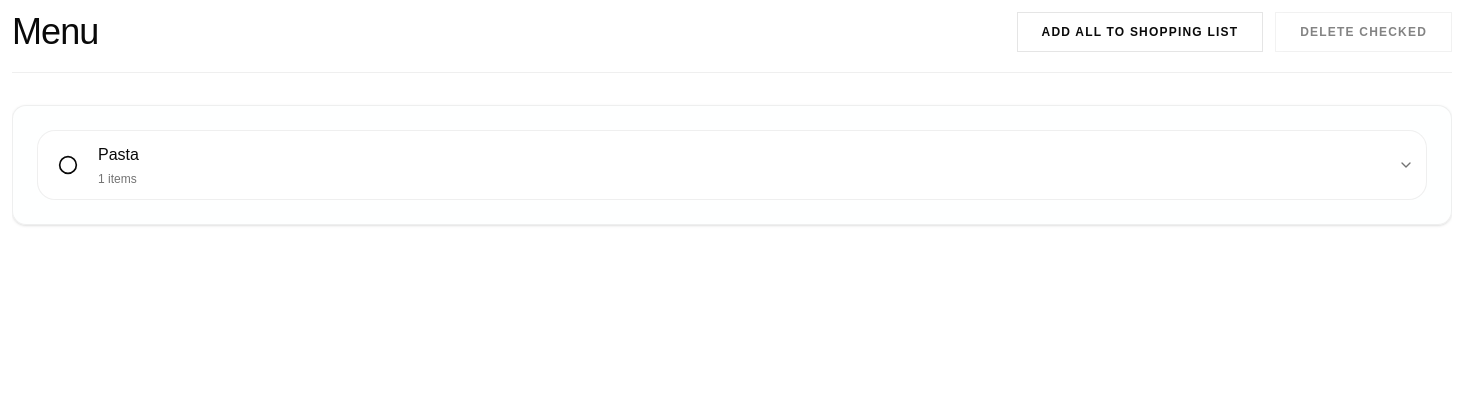
MenuPage › expands and collapses menu rows when the recipe is clicked
expect the button "Add recipe to shopping list" is not shown: met
Click the text "Pasta": x=118, y=154 [98,146,139,163]
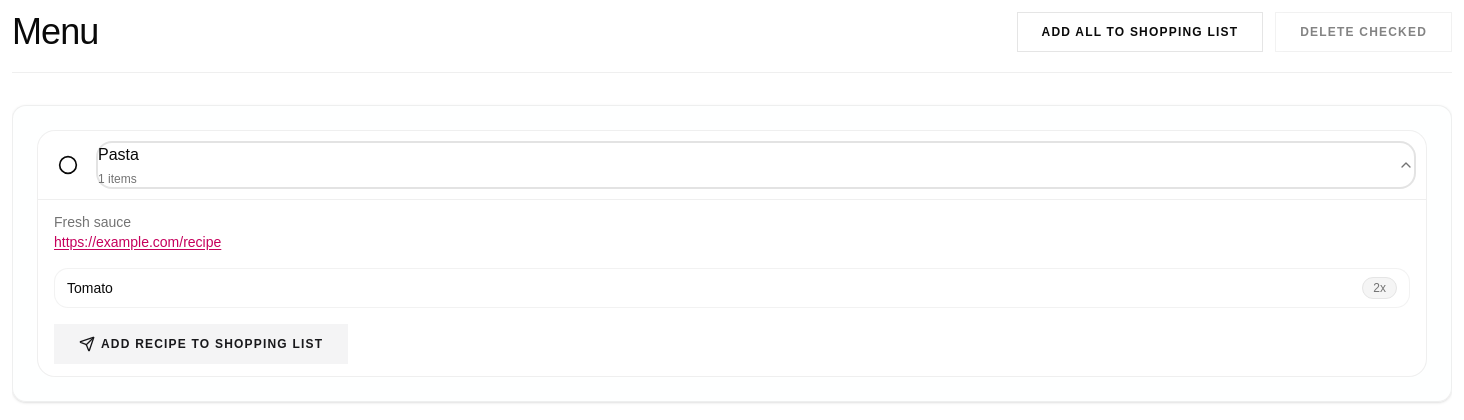
expect the text "Tomato" is shown: met, box [67,280,113,296]
expect the button "Add recipe to shopping list" is shown: met, box [54,324,348,364]
Click the text "Pasta": x=118, y=154 [98,146,139,163]
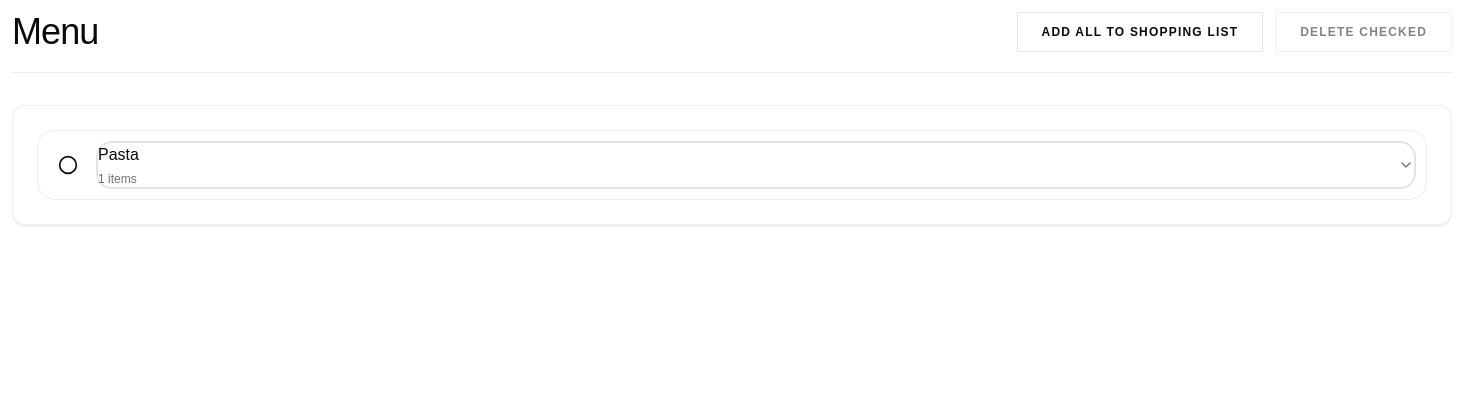
expect the button "Add recipe to shopping list" is gone: met
